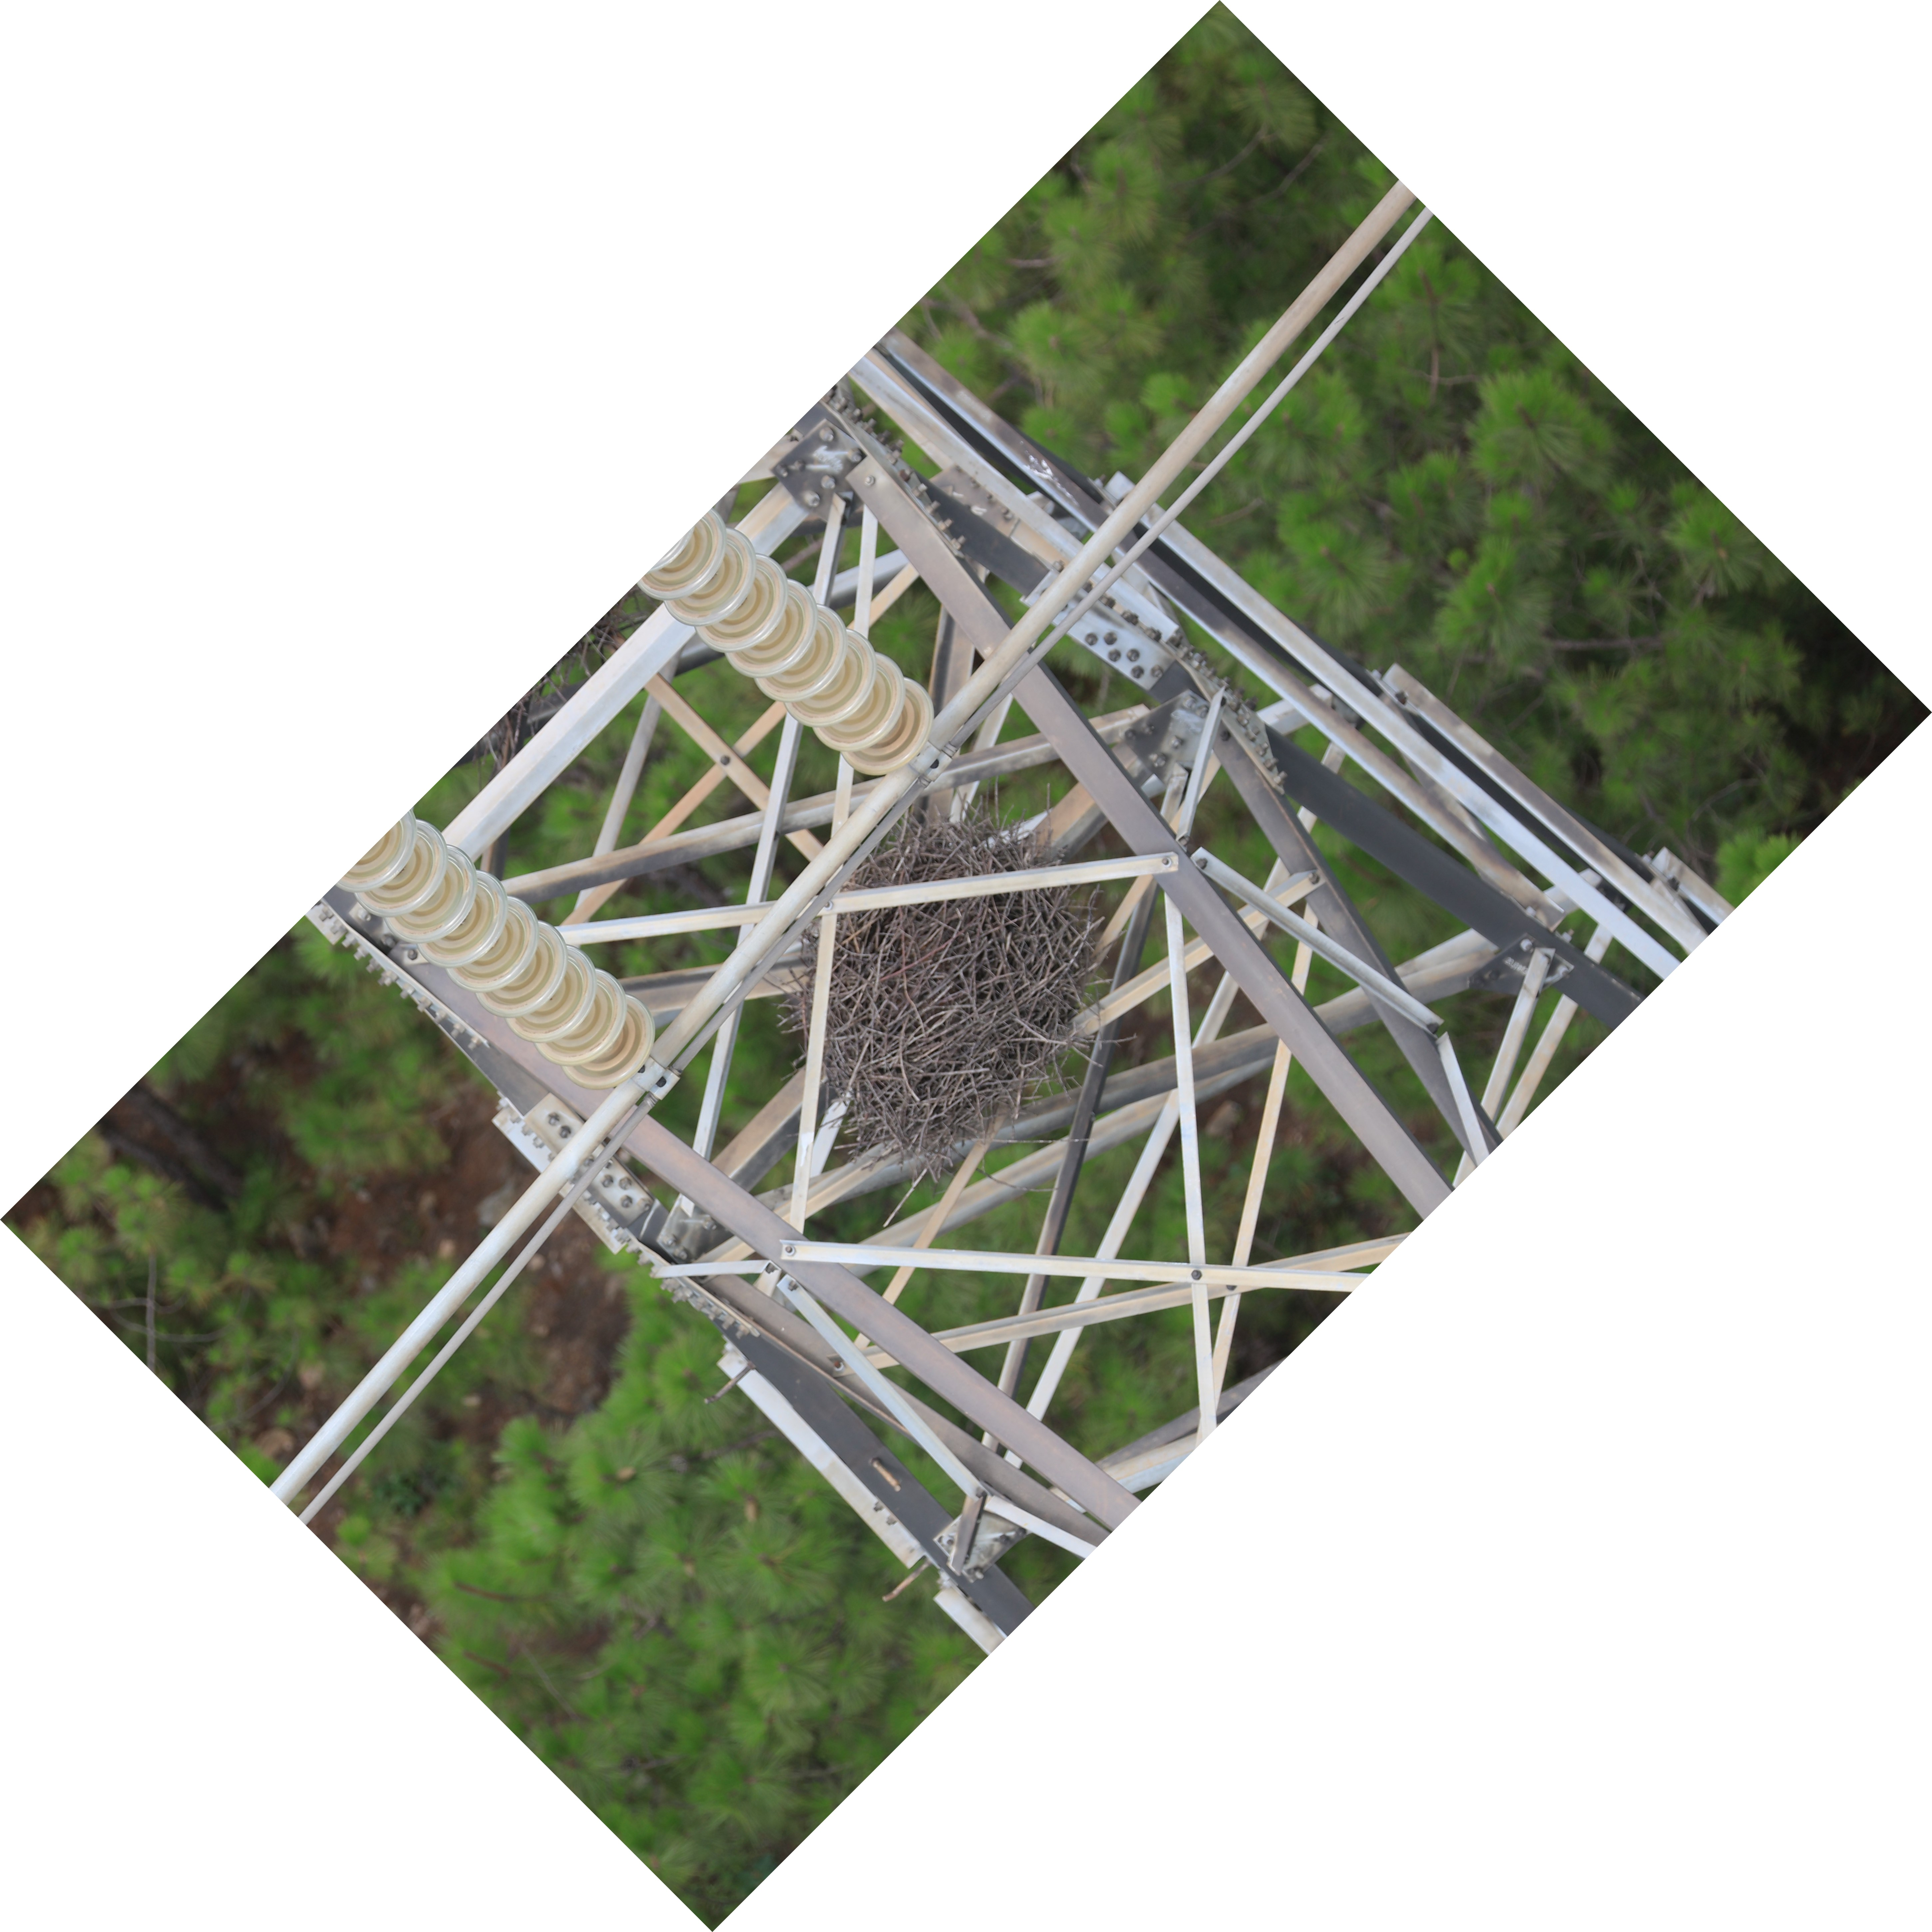niaowo: (764, 798, 1120, 1162)
